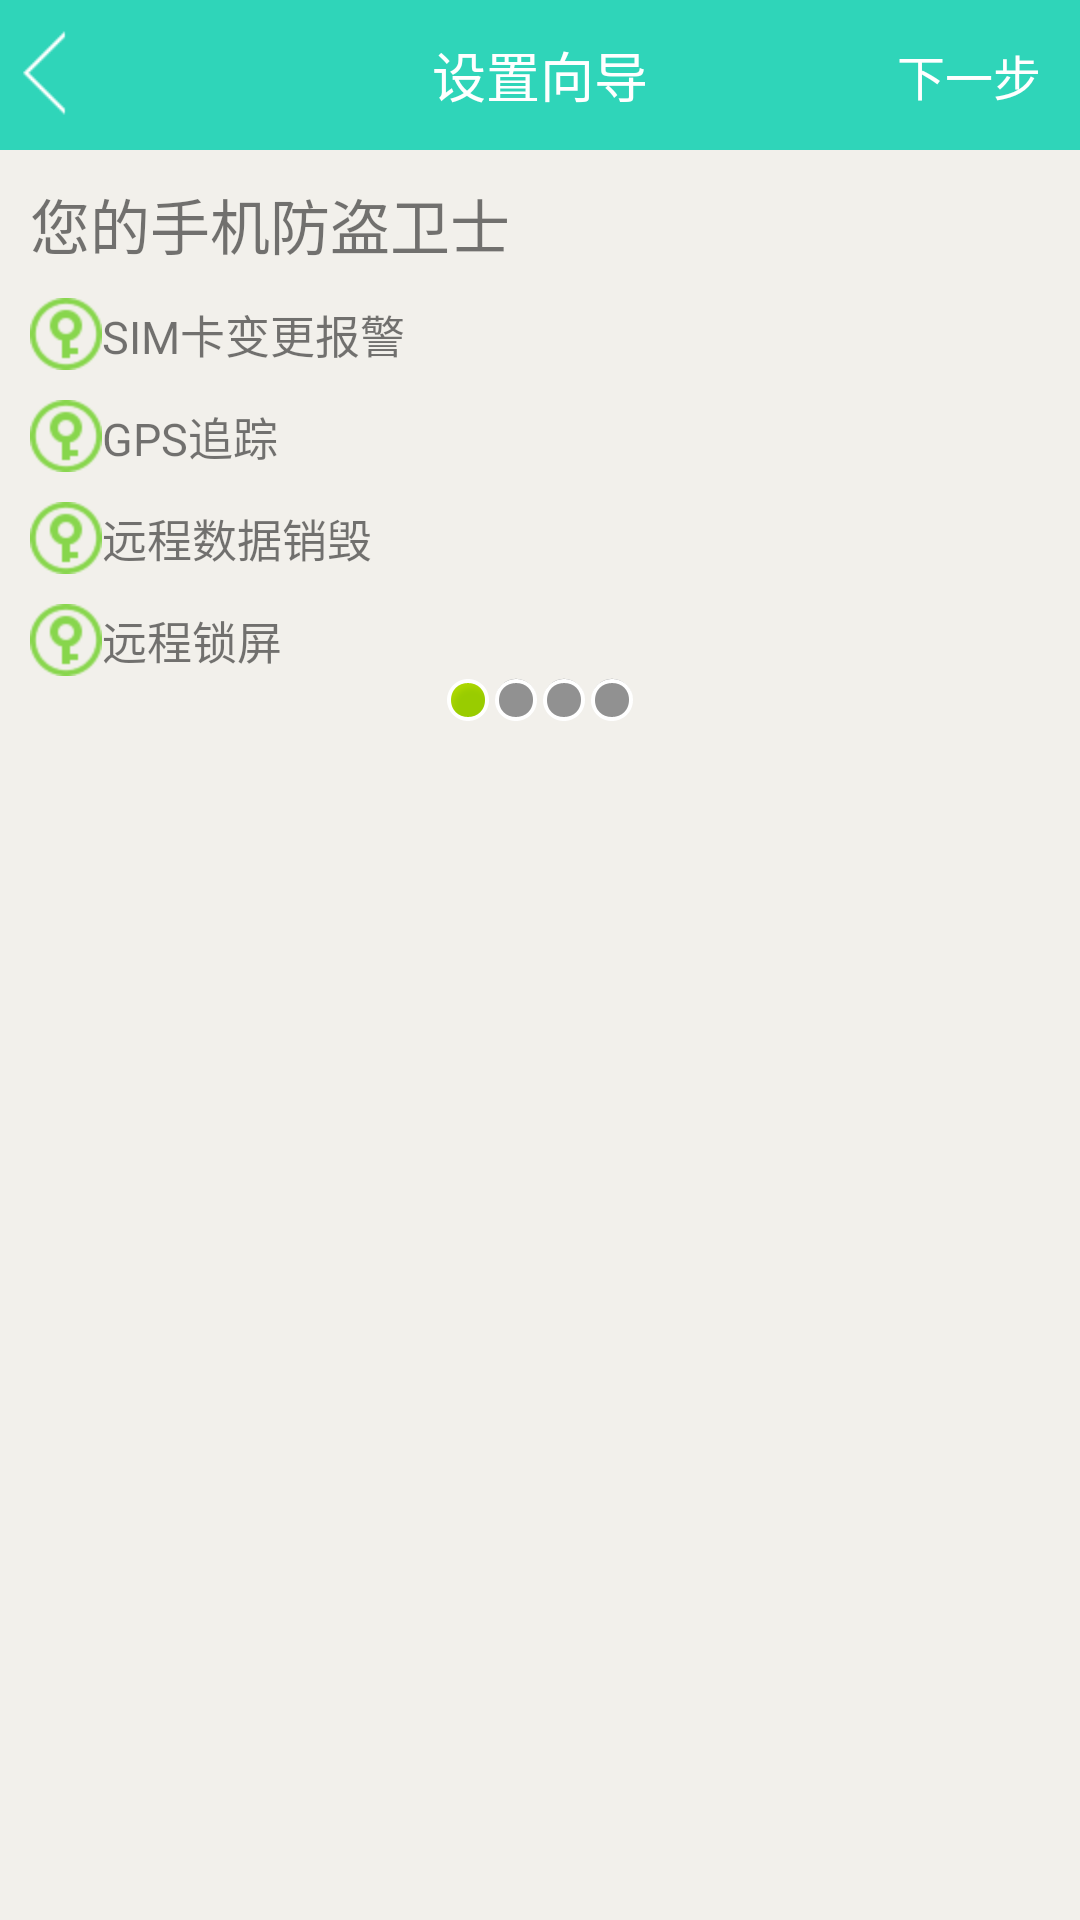

Named icons in this screenshot (1080x1920) and their bounding boxes, (x1, y1, x2, y2):
our group back on: (23, 31, 65, 115)
